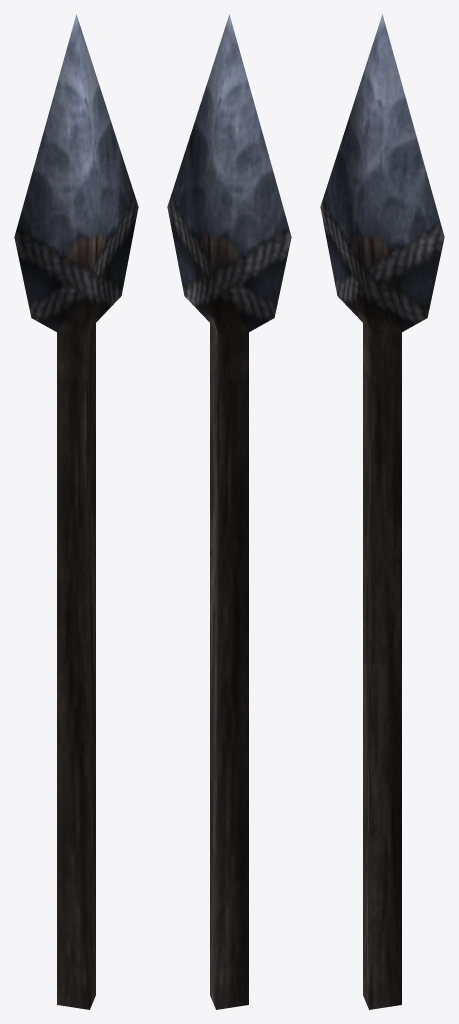
File: GoblinSpear02.FBX
3 views of the same model, side by side, from view 1: azimuth 30°, elevation 25°; view 2: azimuth 150°, elevation 25°; view 3: azimuth 330°, elevation 25° (orthographic).
Parts seen in each view (by area): view 1: arm01; view 2: arm01; view 3: arm01.
Boxes of the visible parts, box(x1,y1,x2,y2) form: arm01: box(14, 14, 138, 1009); arm01: box(167, 14, 291, 1009); arm01: box(320, 14, 444, 1009).
Size of the model in its own units: 11.8 by 89.5 by 5.72.
